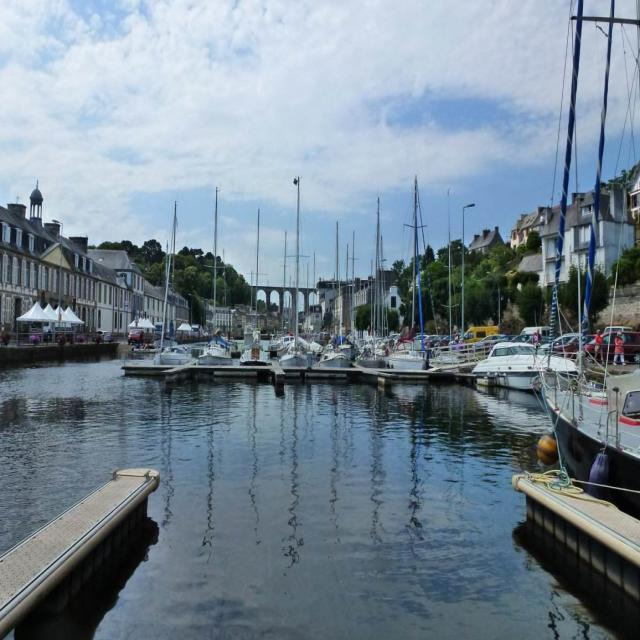passenger ship: (489, 312, 576, 386), (130, 331, 199, 384)
